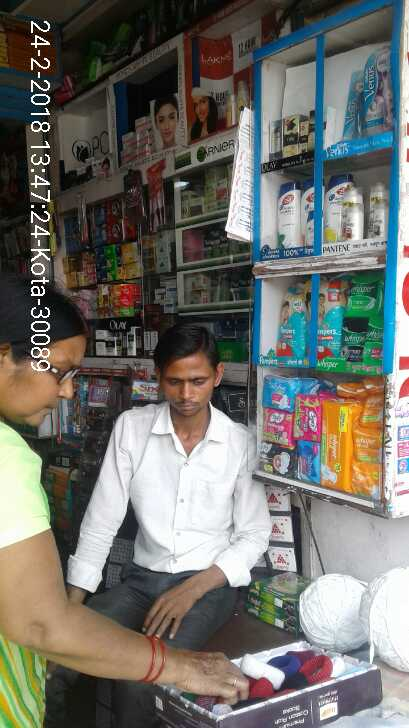venus: (365, 48, 394, 128), (343, 78, 365, 128)
